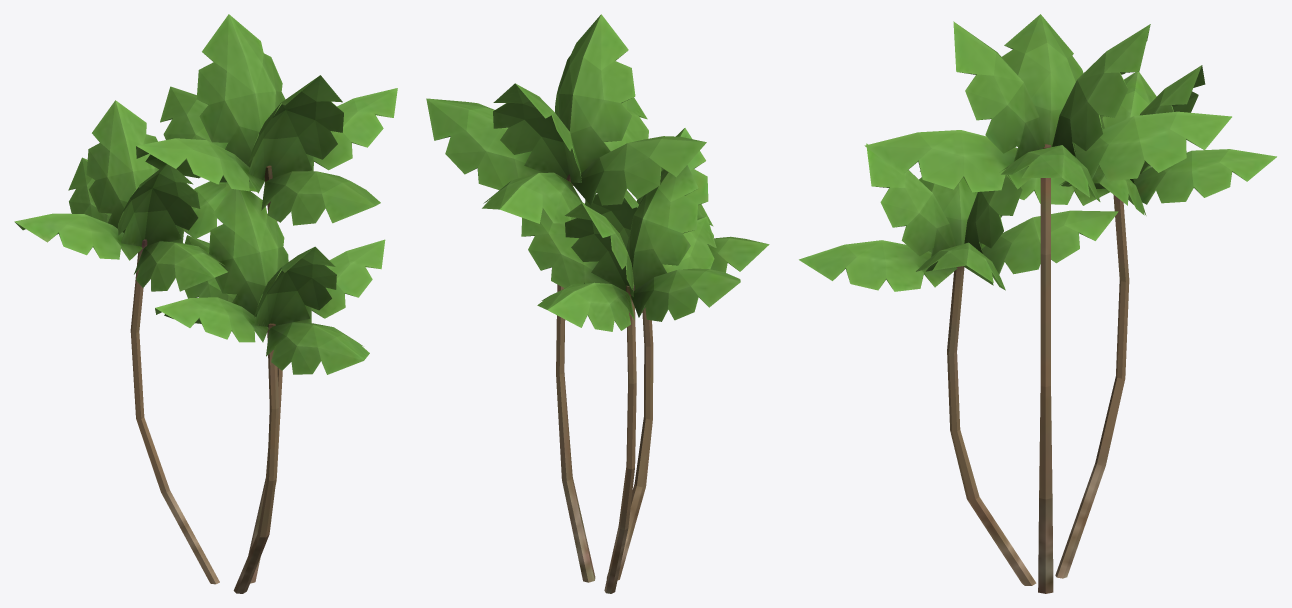
File: palm_tall.glb
The picture shows the model from 3 angles, left to right: view 1: azimuth 30°, elevation 25°; view 2: azimuth 150°, elevation 25°; view 3: azimuth 270°, elevation 25°; orthographic projection. The views are drawn at different scales.
Visible parts, largest first — view 1: MacarthurPalmTree_mesh; view 2: MacarthurPalmTree_mesh; view 3: MacarthurPalmTree_mesh.
Part boxes in pixels (bbox=[...]): MacarthurPalmTree_mesh: bbox=[14, 14, 397, 593]; MacarthurPalmTree_mesh: bbox=[426, 14, 769, 593]; MacarthurPalmTree_mesh: bbox=[799, 14, 1276, 593].
Size of the model in its own units: 8 by 11.6 by 8.58.
Materials: 1 (1 with a texture image).
